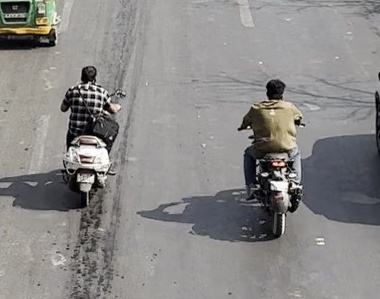BikeWithRider: (233, 73, 311, 241), (53, 61, 128, 210)
NoHelmet: (260, 75, 291, 102), (76, 62, 101, 86)
